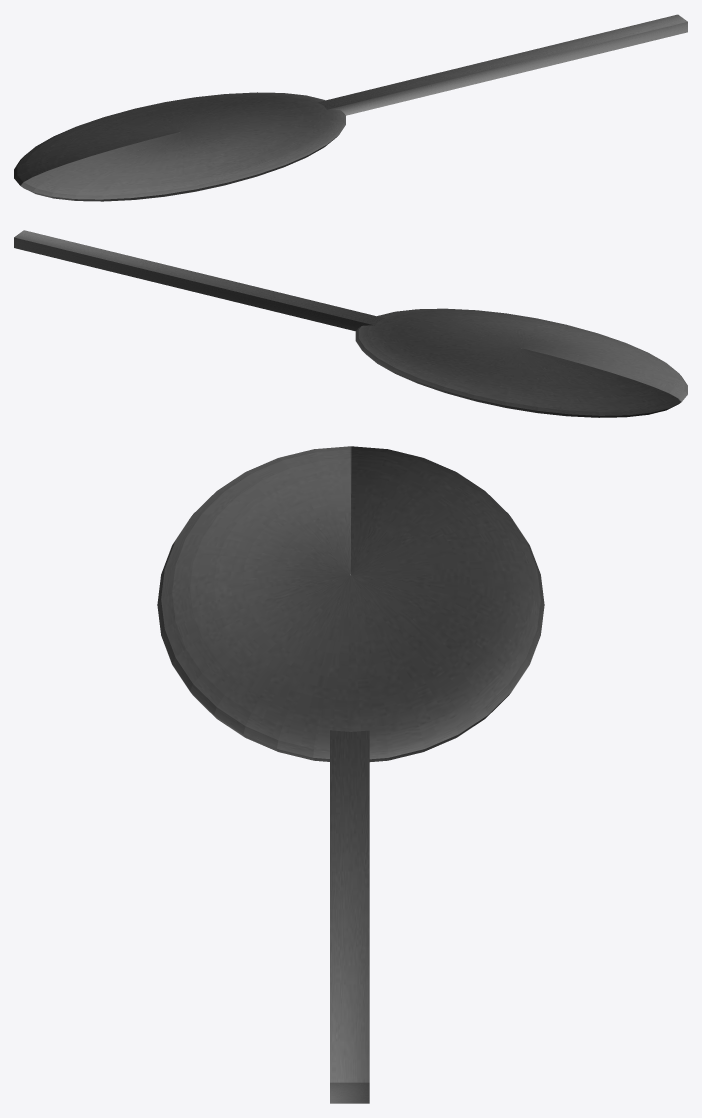
Rendered from Spoon.glb.
The picture shows the model from 3 angles, top to bottom: view 1: azimuth 30°, elevation 25°; view 2: azimuth 150°, elevation 25°; view 3: azimuth 270°, elevation 25°; orthographic projection. The views are drawn at different scales.
Parts seen in each view (by area): view 1: Cube; view 2: Cube; view 3: Cube.
Boxes of the visible parts, x1,y1,x2,y2 form: Cube: (14,14,687,201); Cube: (14,230,687,417); Cube: (157,446,544,1103).
Size of the model in its own units: 8.3 by 0.36 by 2.1.
Materials: 1 (1 with a texture image).
